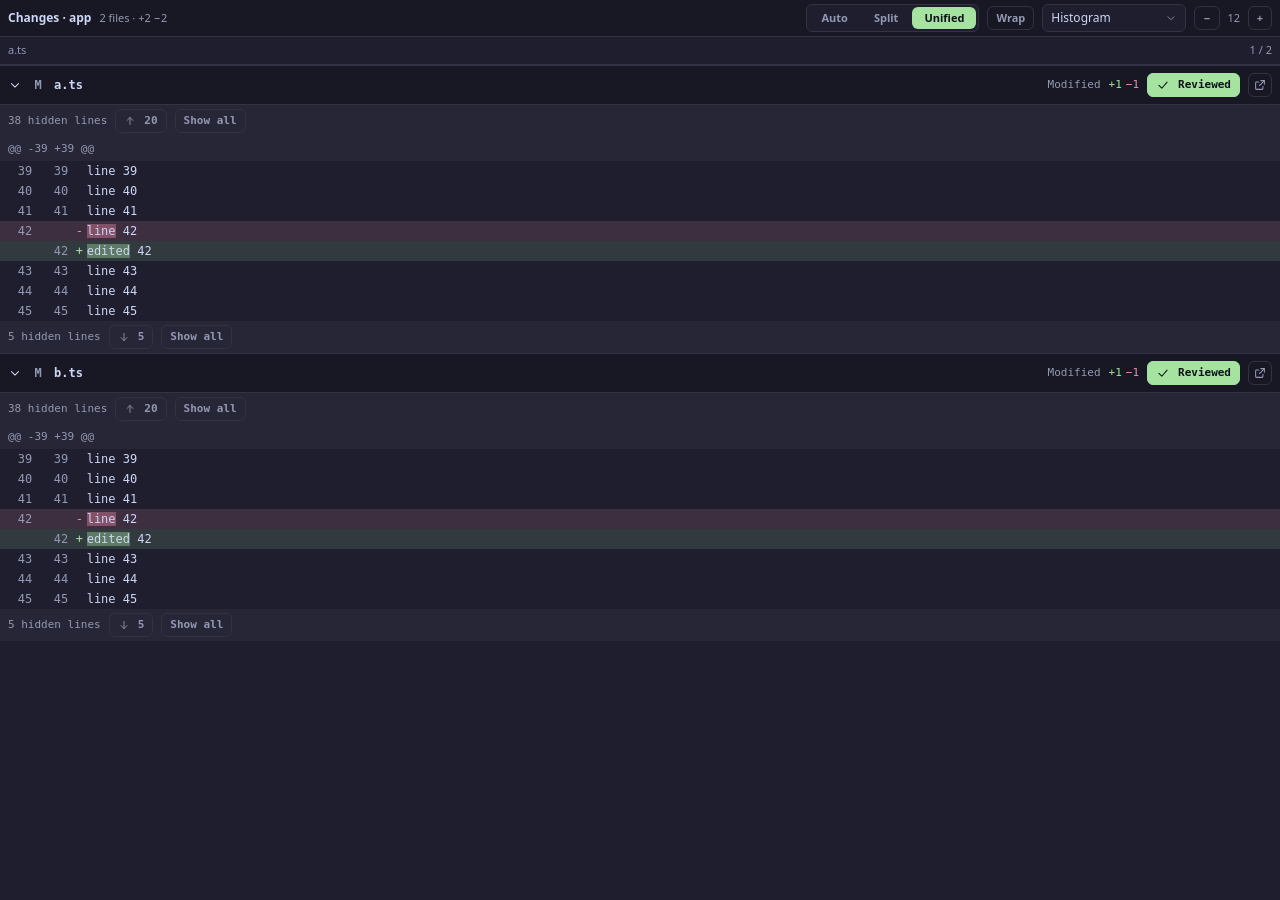
Test case: A comment attaches to a line or a range on one side › keeps a pick to one file
This screenshot has width=1280, height=900.
Press the mouse on the 3rd button with test id "review-no-new" at x=61, y=211, box [54,204,68,218]
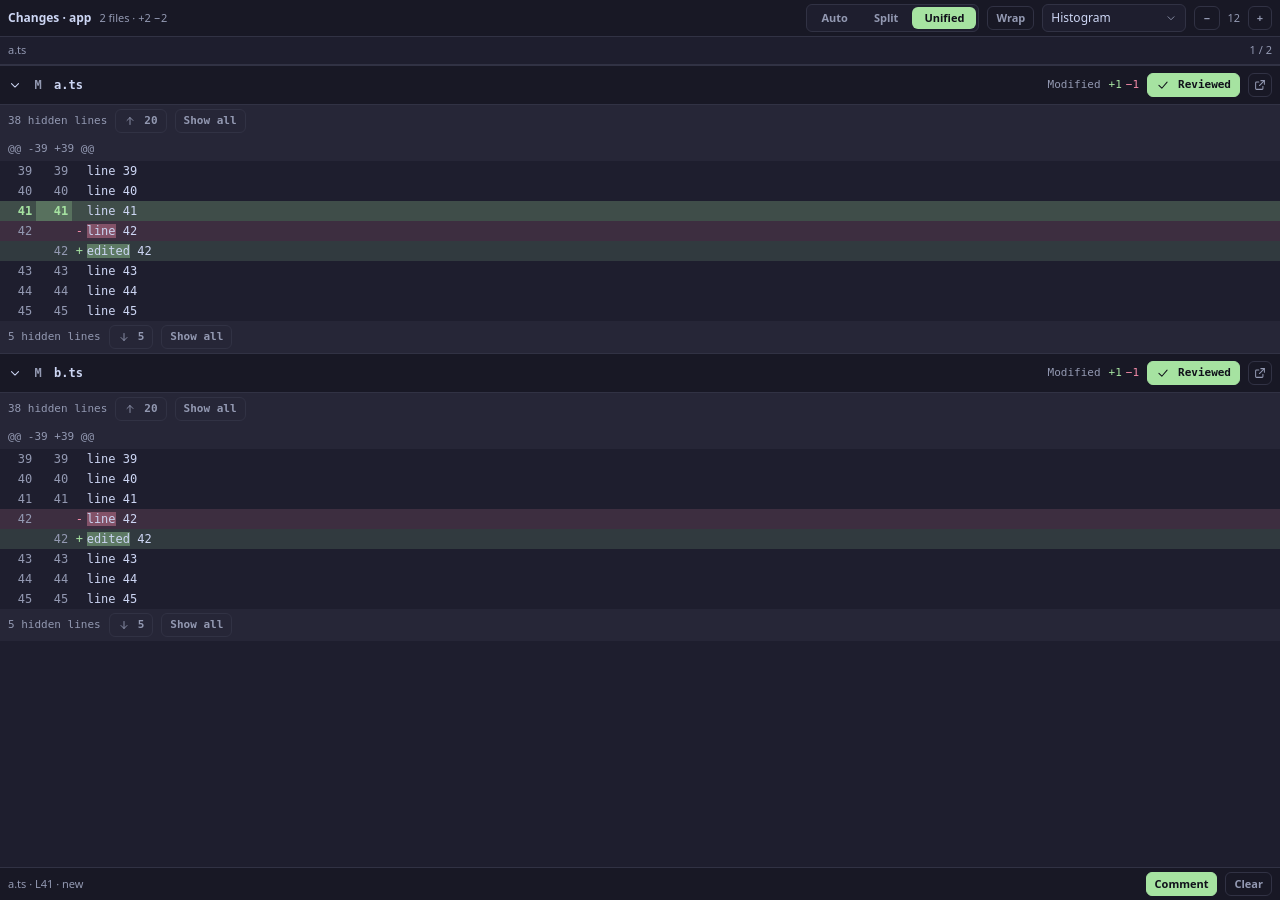
Check: the text with test id "review-selection-text" shows "a.ts · L41", box [8,876,84,891]
